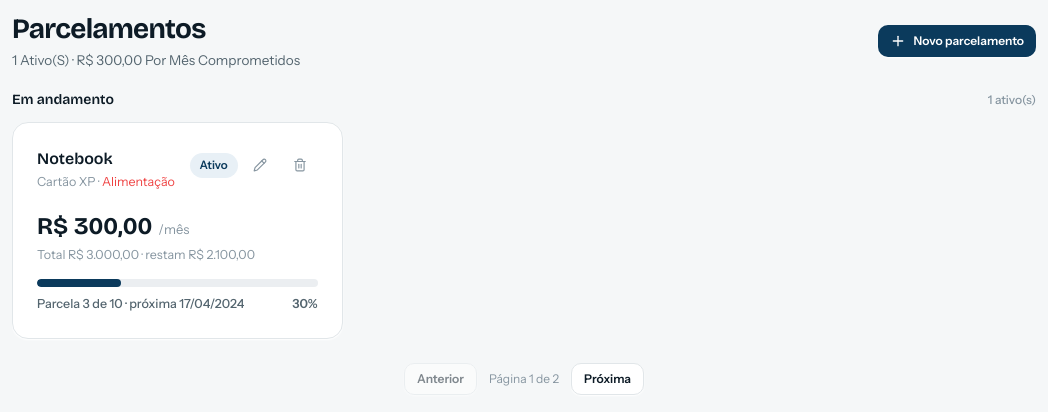
Test: Installments › disables next page on last page
The image size is (1048, 412).
Check: the text "Notebook" is shown, box left=37, top=147, right=113, bottom=171
Check: the button "Anterior" is disabled, box left=404, top=362, right=477, bottom=394
Click the button "Próxima" at (608, 378), box left=571, top=362, right=644, bottom=394
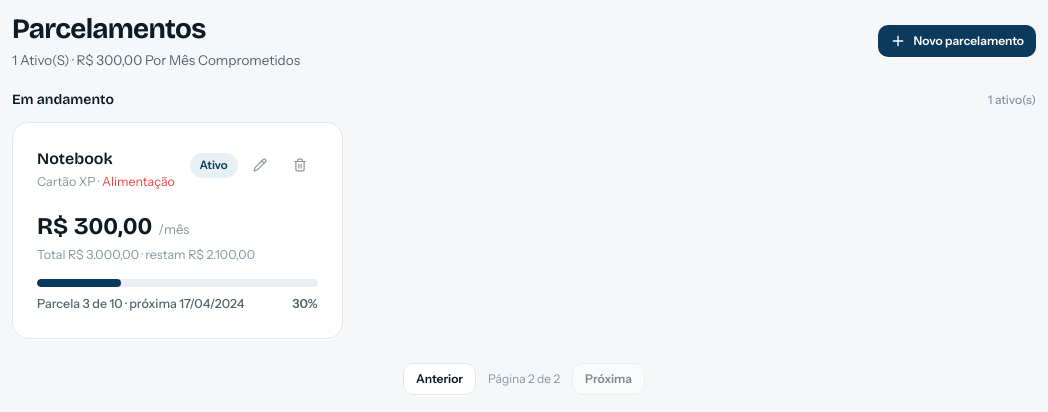
Check: the button "Próxima" is disabled, box left=572, top=362, right=645, bottom=394
